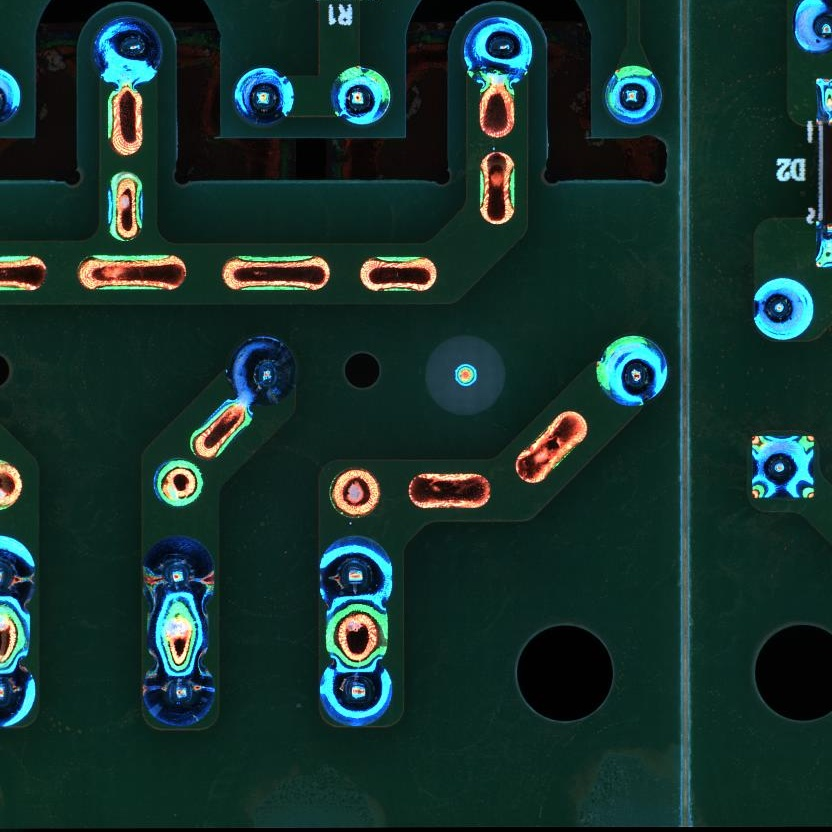spot: (223, 334, 299, 411), (593, 333, 670, 409), (142, 536, 216, 610), (315, 535, 393, 605), (460, 16, 534, 87), (89, 16, 163, 86), (318, 661, 395, 728), (748, 430, 817, 502), (140, 664, 216, 728), (750, 275, 819, 340), (230, 65, 296, 131), (327, 63, 390, 126), (602, 64, 665, 126), (791, 1, 832, 53)
